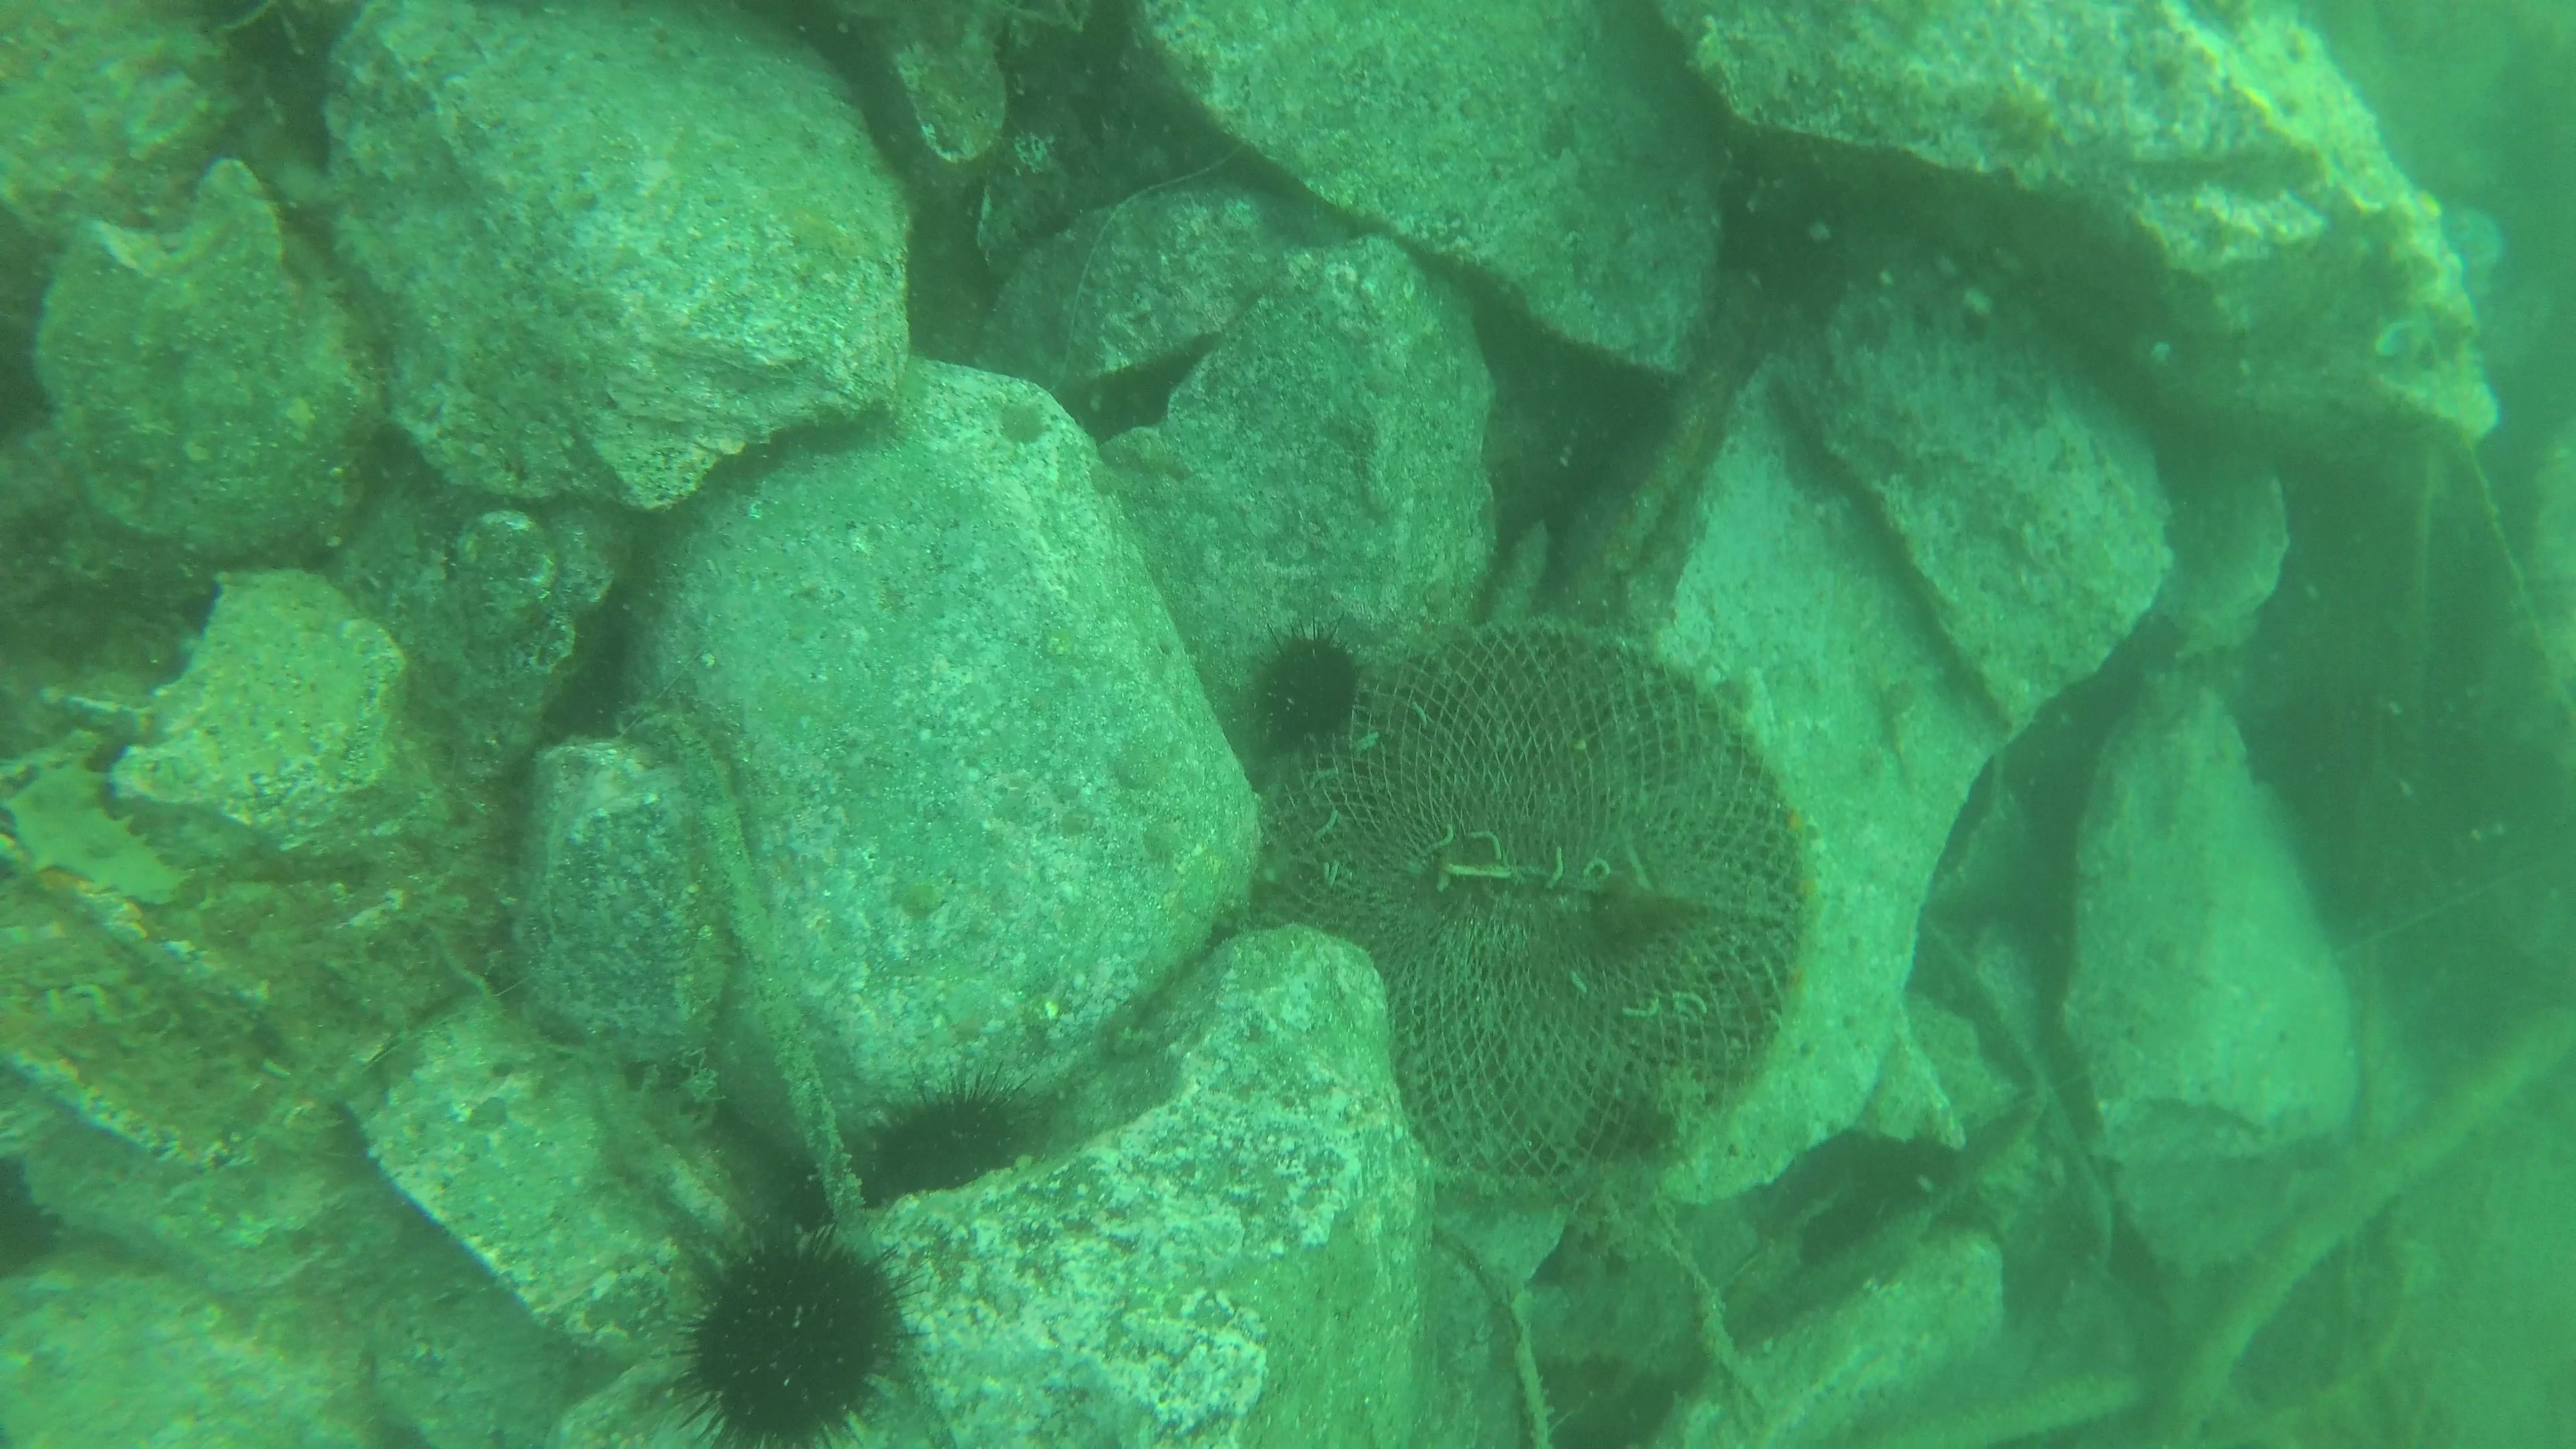echinus: (663, 1221, 918, 1444), (855, 1072, 1039, 1212), (1242, 623, 1371, 755)
holothurian: (2, 741, 186, 916)
